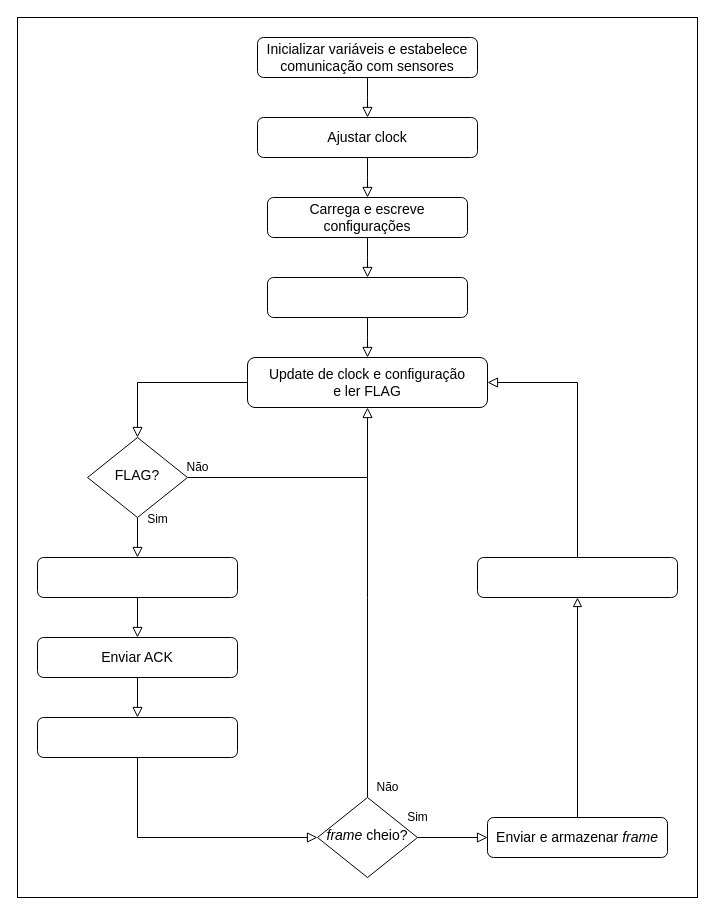
The diagram is 715 pixels wide and 915 high, and some of its shapes have lost their labels. The shapes that lost their labels are listed below. From the top down, each one's centre as x and y in pixels, then its label:
At pixel 367 297: "Inicializa dataframe".
At pixel 137 577: "Ler contagens e marcar tempo".
At pixel 577 577: "Escrever configuração e começar novo frame".
At pixel 137 737: "Inserir block e medir slow control".
